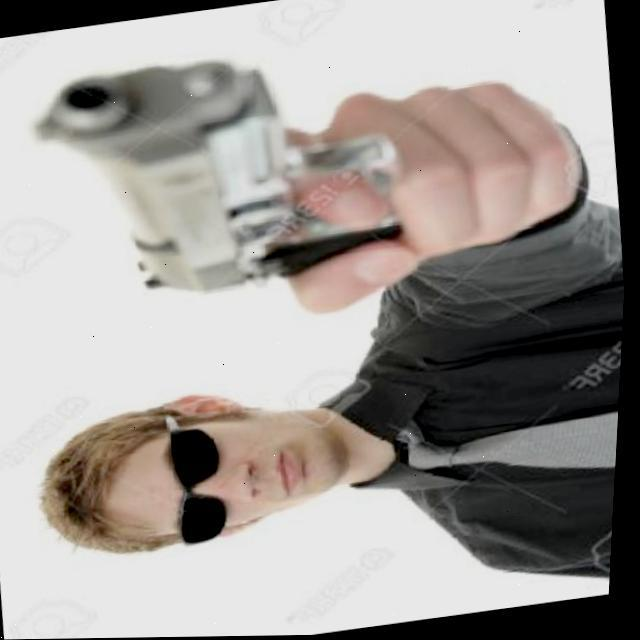gun: (19, 14, 608, 310)
